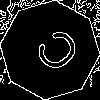C: (25, 25, 83, 82)
